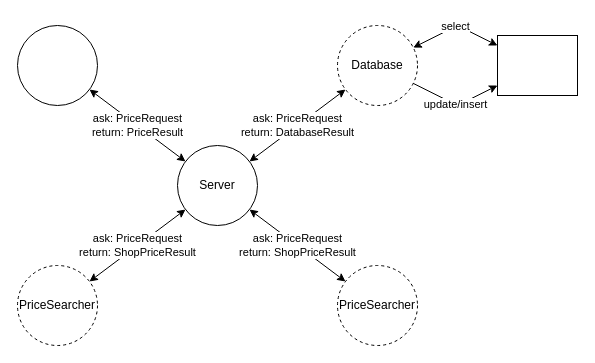
Image size: 595x363. Some labels were removed from this diagram. Here are the shapes that lost their labels. From the top down, the centre of each, then its label:
At pixel 57 65: "HTTPServer".
At pixel 537 65: "SQLite Database".
